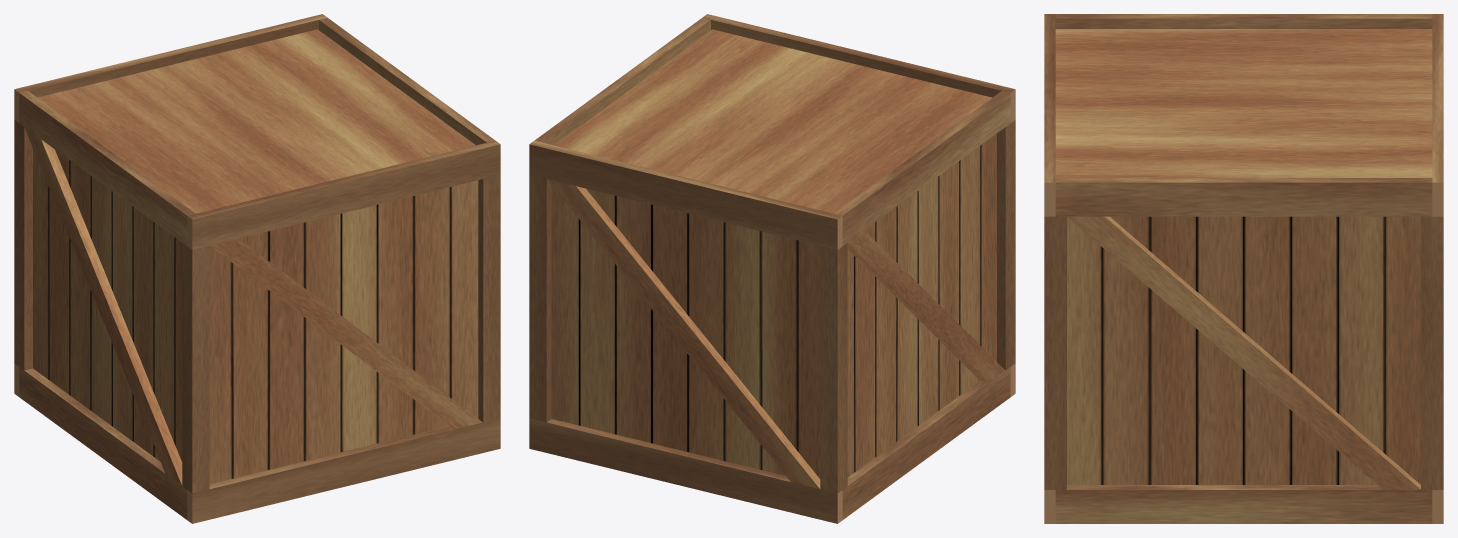
3 views of the same model, side by side, from view 1: azimuth 30°, elevation 25°; view 2: azimuth 150°, elevation 25°; view 3: azimuth 270°, elevation 25° (orthographic). The views are drawn at different scales.
Parts seen in each view (by area): view 1: Frame; view 2: Frame; view 3: Frame.
Part boxes in pixels (x1,y1,x2,y2): Frame: (14, 14, 500, 523); Frame: (529, 14, 1015, 523); Frame: (1044, 14, 1443, 523).
Bounding box in the file's own units: 403 × 380 × 403.
